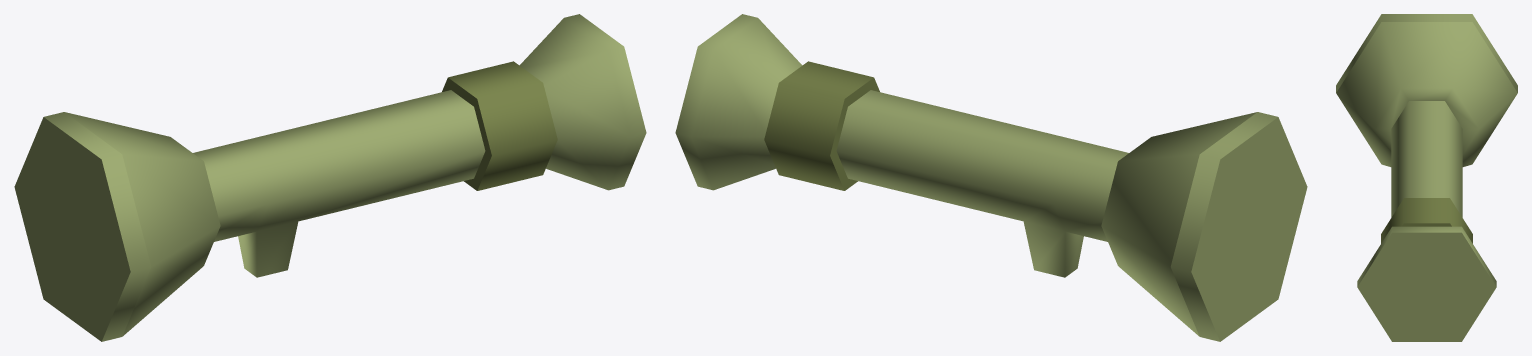
File: bazooka_1.fbx
The picture shows the model from 3 angles, left to right: view 1: azimuth 30°, elevation 25°; view 2: azimuth 150°, elevation 25°; view 3: azimuth 270°, elevation 25°; orthographic projection. The views are drawn at different scales.
Visible parts, largest first — view 1: bazooka_1; view 2: bazooka_1; view 3: bazooka_1.
Part boxes in pixels (x1,y1,x2,y2): bazooka_1: (14,14,646,341); bazooka_1: (675,14,1307,341); bazooka_1: (1336,14,1517,341).
Size of the model in its own units: 3.49 by 1.33 by 1.15.
Materials: 1 (1 with a texture image).
